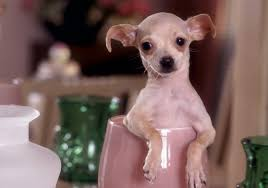chihuahua: (96, 5, 249, 175)
